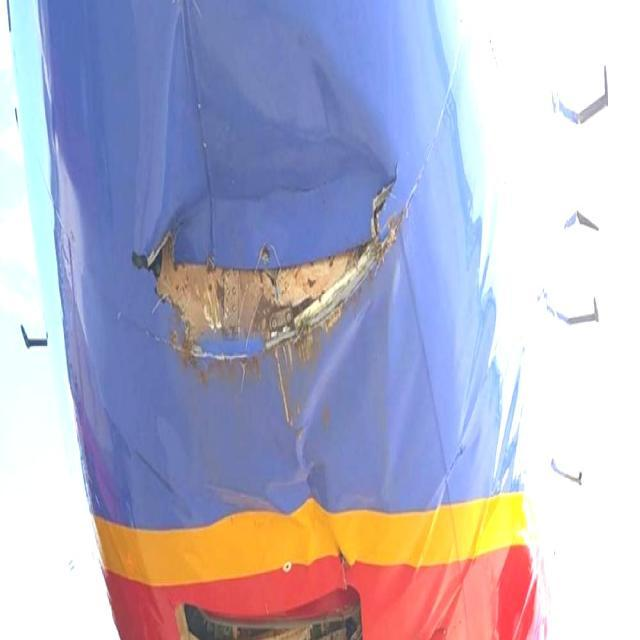crack: (129, 152, 413, 403)
